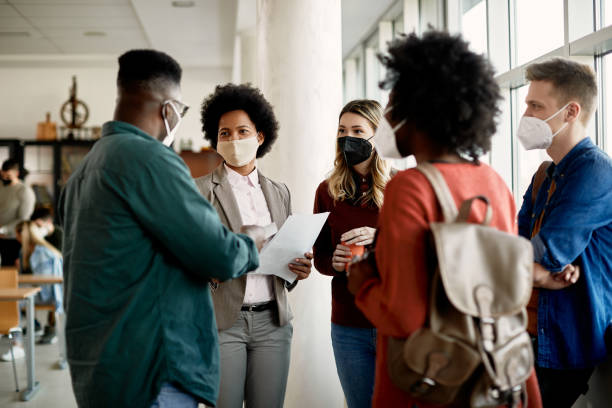with mask: (510, 56, 604, 151), (115, 51, 188, 147), (212, 99, 271, 174), (330, 98, 386, 171)
